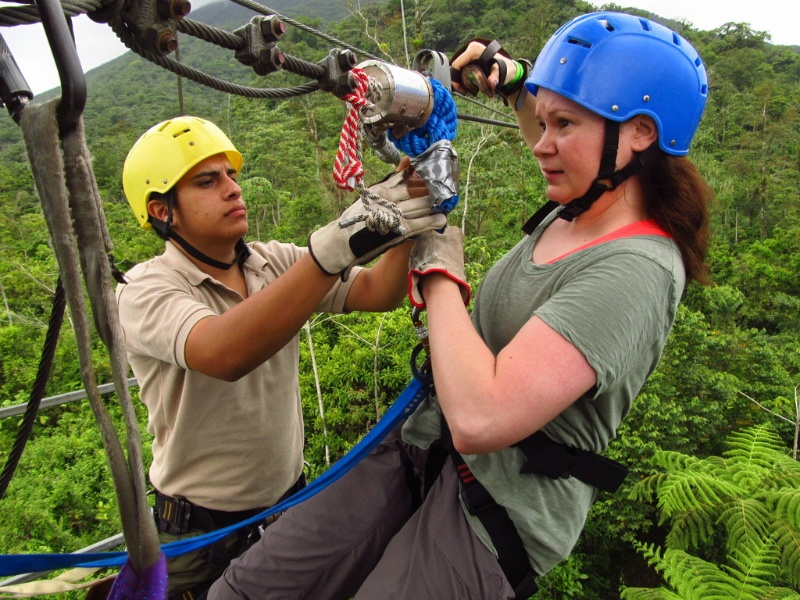Baret: (533, 10, 714, 129), (120, 114, 250, 207)
